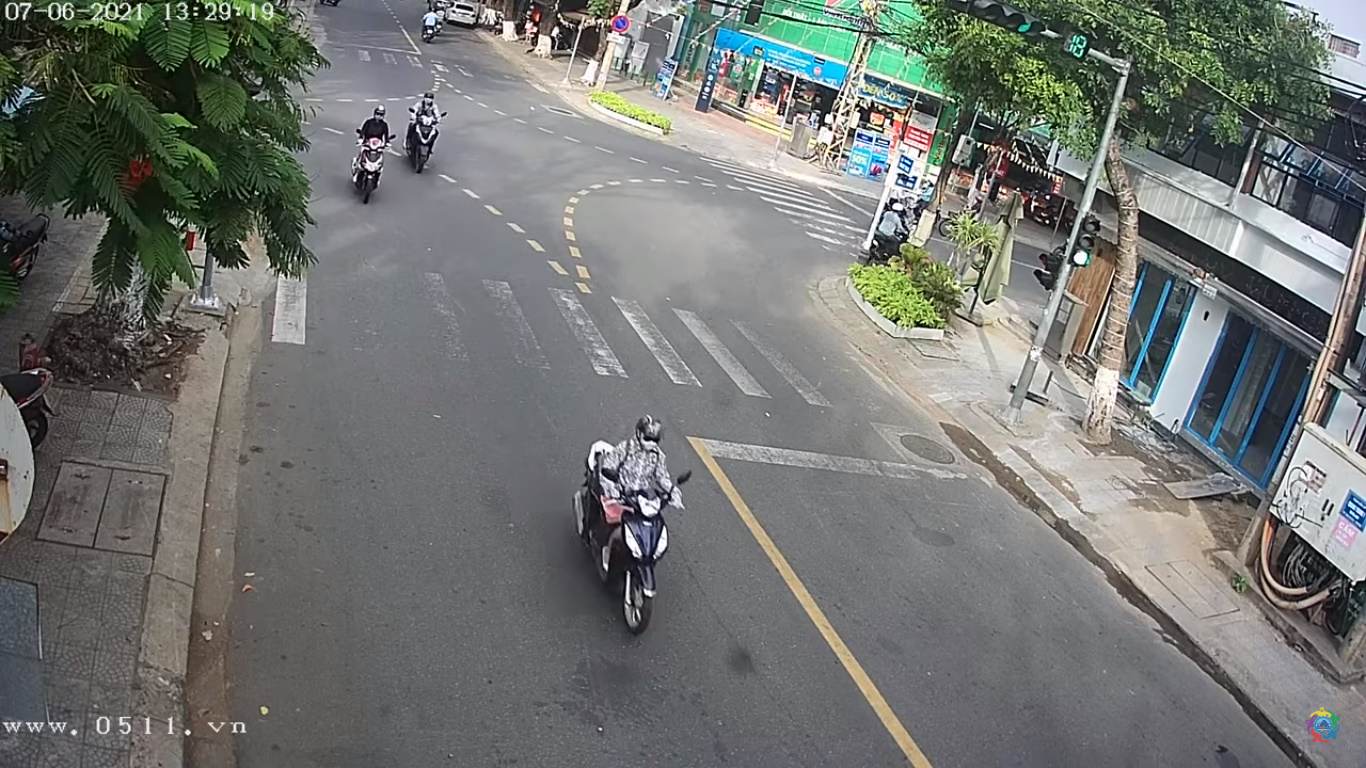motorbike: (577, 418, 690, 628), (397, 91, 448, 176), (348, 109, 396, 199)
